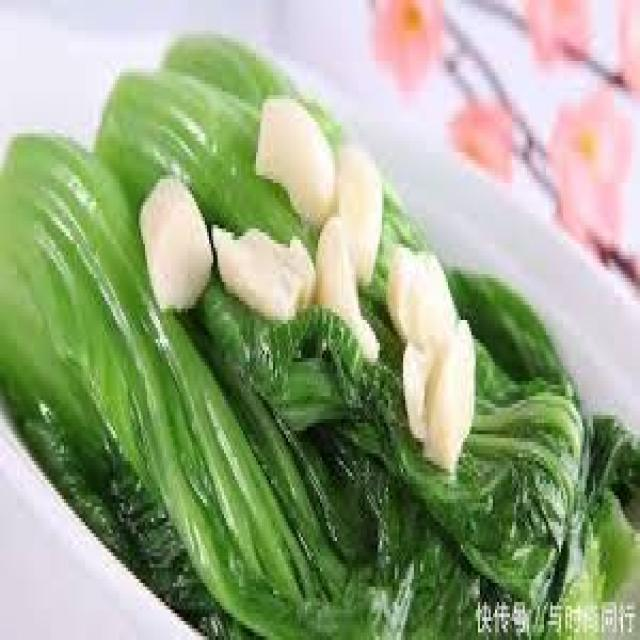food_waste: (0, 34, 638, 636)
